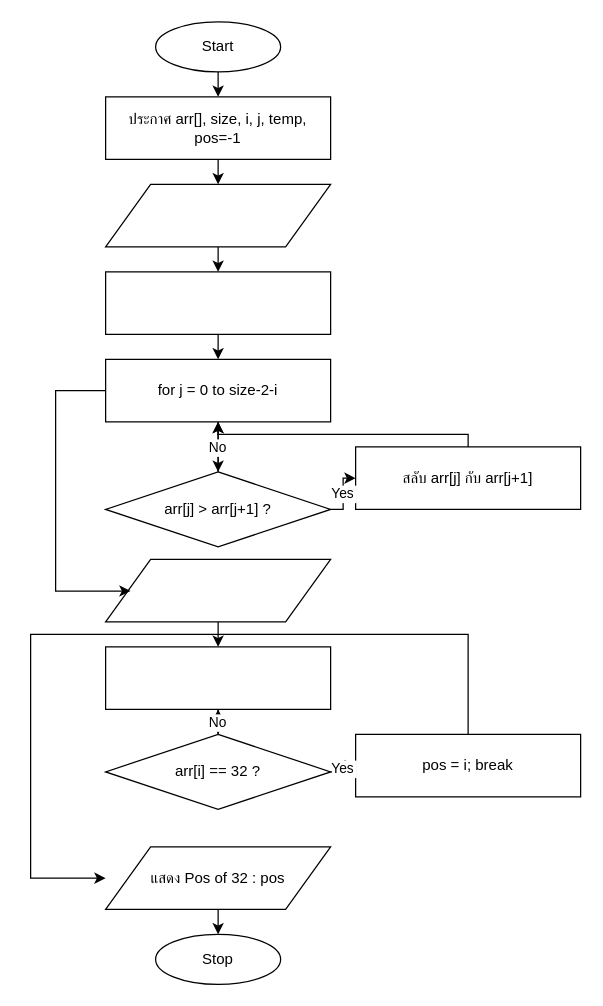
This 603x1006 diagram has some shape labels left out. Here are the shapes that lost their labels. From the top down, the centre of each, then its label:
(217,215): แสดง Old Series
(217,302): เริ่ม Bubble Sort: for i = 0 to size-2
(217,590): แสดง New Series
(217,677): หา pos ของ 32: for i = 0 to size-1
